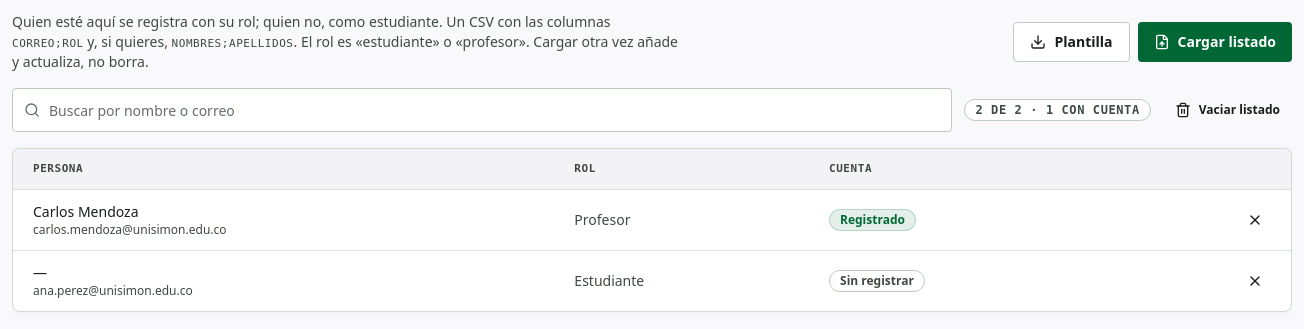
Scenario: El listado de la cátedra › busca por nombre o correo
This screenshot has width=1304, height=329.
In the search field named "Buscar en el listado": [482, 110] box [12,88,952,132], type "perez"
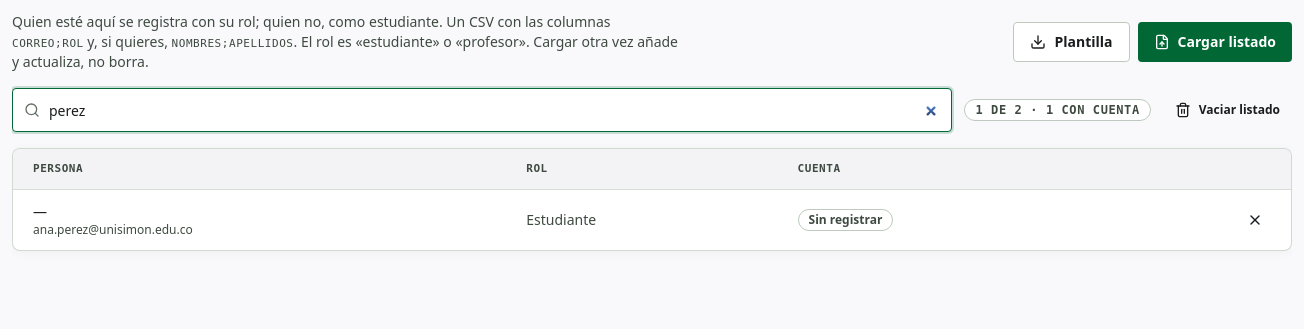
Expected: the text "ana.perez@unisimon.edu.co" is shown, [33,221,193,238]
Expected: the text "Carlos Mendoza" is gone
